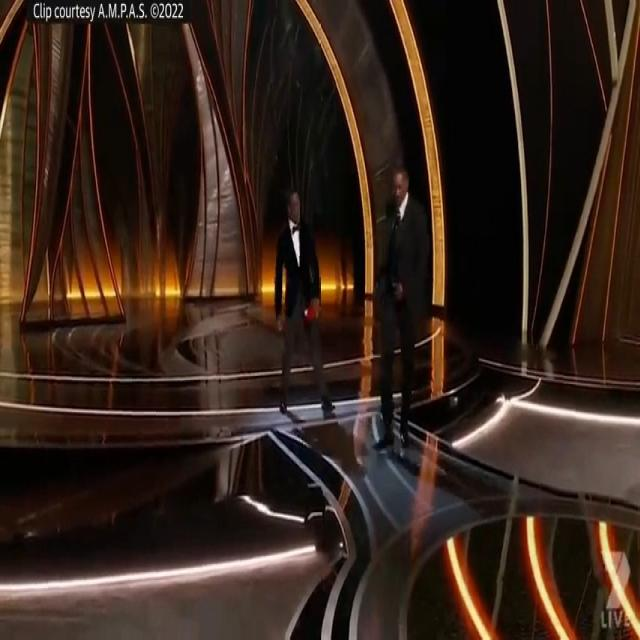non-fight: (252, 154, 440, 468)
